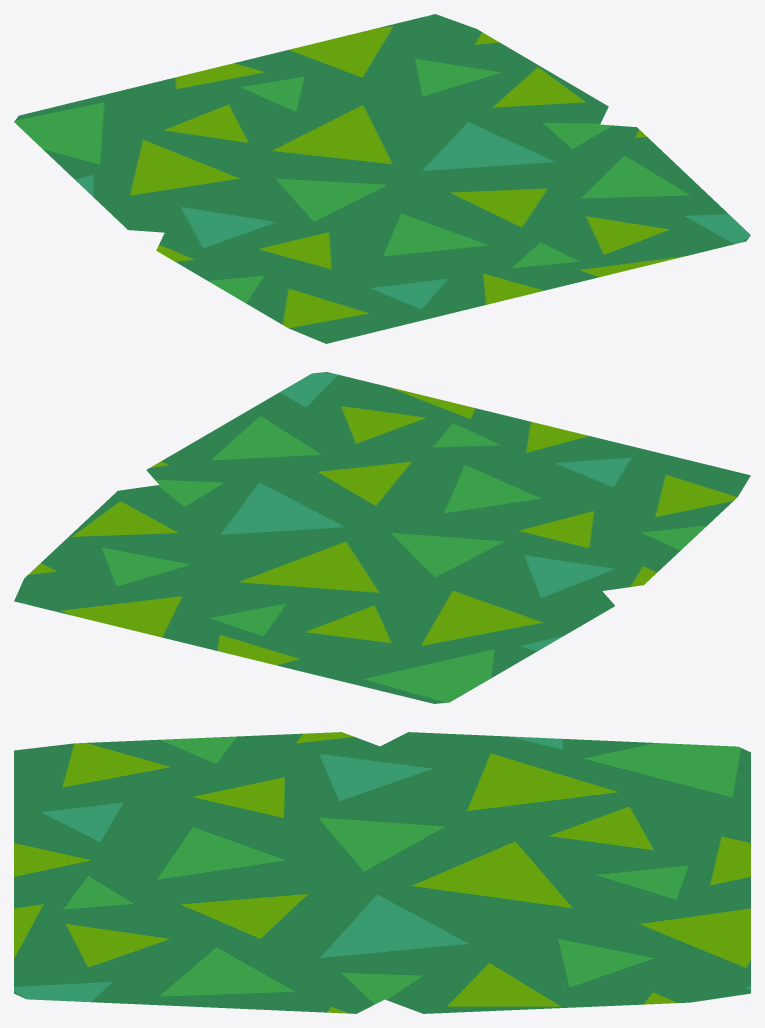
File: Grass Edge Double.fbx
3 renders of one model, top to bottom at view 1: azimuth 30°, elevation 25°; view 2: azimuth 150°, elevation 25°; view 3: azimuth 270°, elevation 25°, orthographic. The views are drawn at different scales.
Visible parts, largest first — view 1: Grass.Edge.Double; view 2: Grass.Edge.Double; view 3: Grass.Edge.Double.
Boxes of the visible parts, <box> form: Grass.Edge.Double: <box>14,14,750,343</box>; Grass.Edge.Double: <box>14,372,750,703</box>; Grass.Edge.Double: <box>14,732,750,1013</box>.
Bounding box in the file's own units: 181 × 5.04e-05 × 200.
